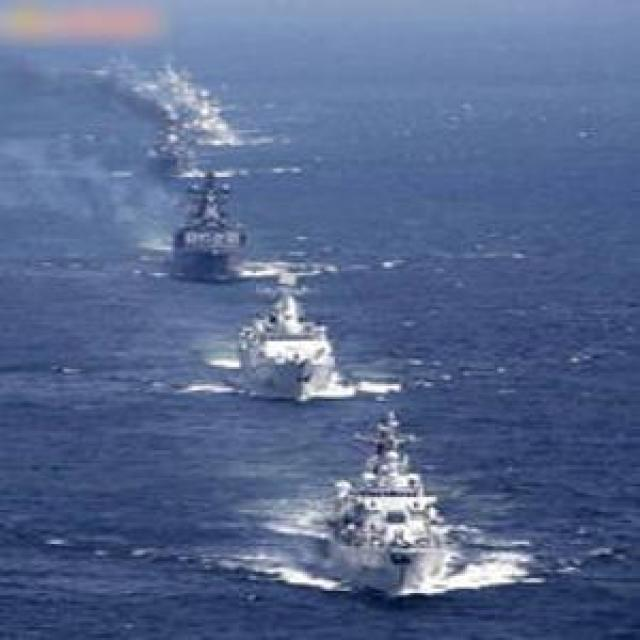navalvessels: (291, 399, 470, 622), (230, 266, 342, 392), (169, 170, 239, 272), (154, 116, 198, 178)
